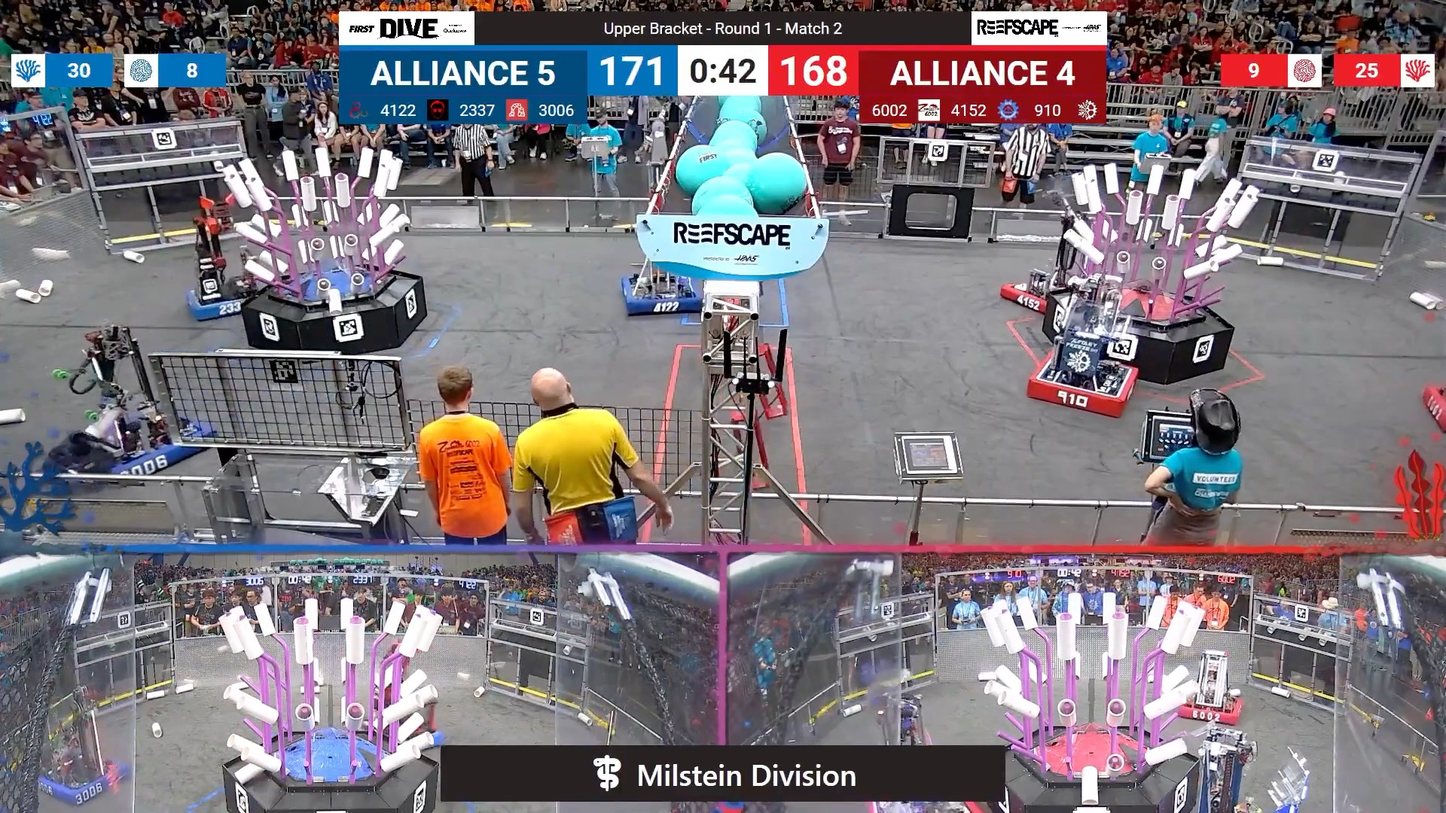bumpers: (51, 415, 217, 486), (1023, 354, 1146, 420), (30, 757, 125, 811), (615, 271, 706, 320), (996, 269, 1076, 319), (181, 280, 255, 324), (1168, 688, 1249, 724), (1418, 376, 1444, 444)
